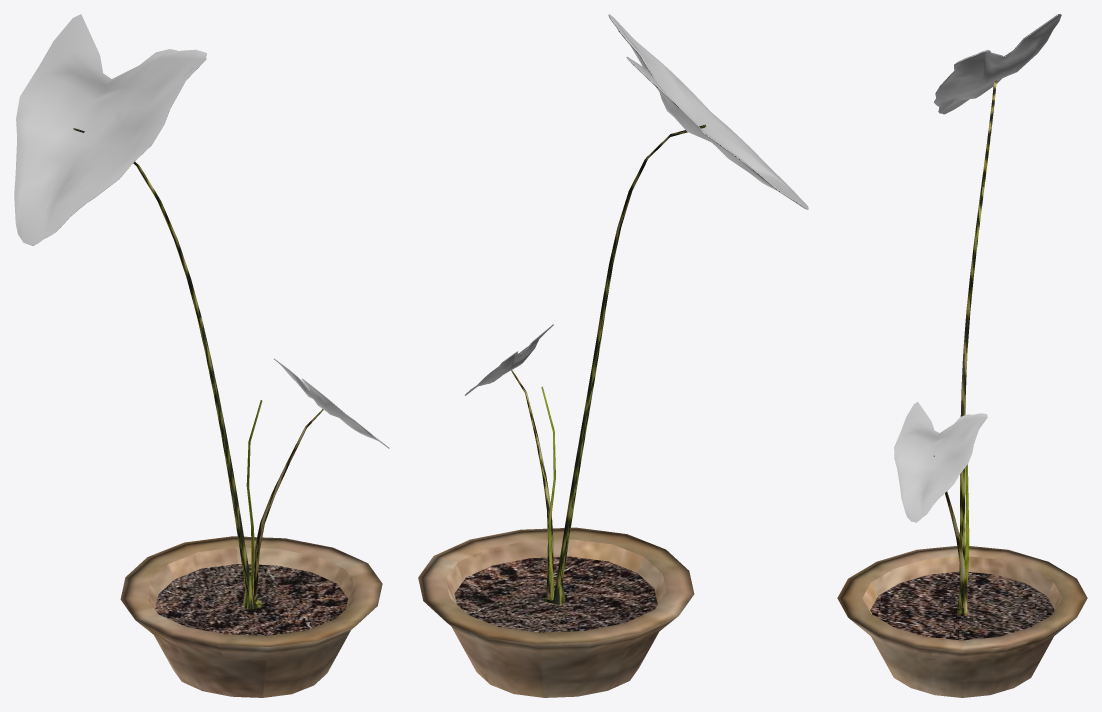
Rendered from Plant_Final.fbx.
3 renders of one model, left to right at view 1: azimuth 30°, elevation 25°; view 2: azimuth 150°, elevation 25°; view 3: azimuth 270°, elevation 25°, orthographic. The views are drawn at different scales.
Parts seen in each view (by area): view 1: revolvedSurface2, pCube2, pasted__pCube1, pCube1; view 2: revolvedSurface2, pCube2, pasted__pCube1, pCube1; view 3: revolvedSurface2, pCube1, pCube2, pasted__pCube1.
Part boxes in pixels (x1,y1,x2,y2): revolvedSurface2: (120, 536, 382, 697); pCube2: (14, 14, 206, 245); pasted__pCube1: (73, 128, 323, 609); pCube1: (274, 358, 389, 448); revolvedSurface2: (418, 527, 694, 697); pCube2: (608, 14, 808, 209); pasted__pCube1: (511, 124, 706, 605); pCube1: (465, 324, 553, 395); revolvedSurface2: (837, 546, 1087, 697); pCube1: (894, 402, 987, 522); pCube2: (934, 14, 1061, 114); pasted__pCube1: (933, 80, 996, 615).
Size of the model in its own units: 15.09 by 26.36 by 10.
